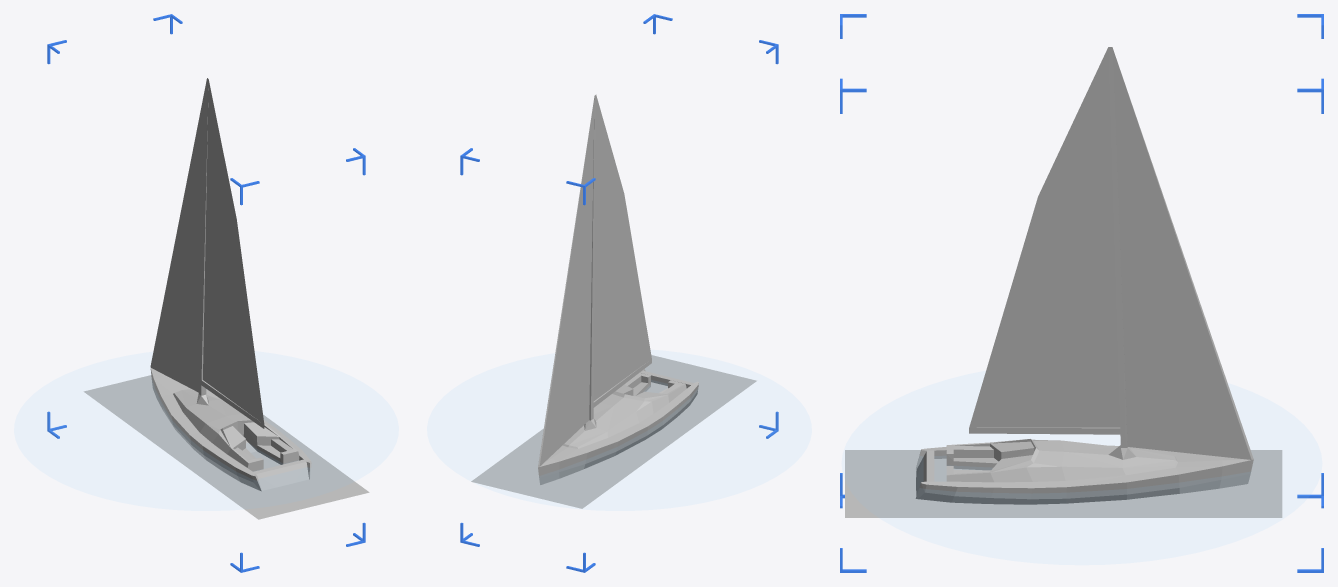
The model's file is SailboatL.glb.
3 views of the same model, side by side, from view 1: azimuth 30°, elevation 25°; view 2: azimuth 150°, elevation 25°; view 3: azimuth 270°, elevation 25° (orthographic). The views are drawn at different scales.
Visible parts, largest first — view 1: PaperVesselsMesh038_1, PaperVesselsMesh038, SurfaceGraphic_whiteGlow004, BoundingBox; view 2: PaperVesselsMesh038_1, SurfaceGraphic_whiteGlow004, PaperVesselsMesh038, BoundingBox; view 3: PaperVesselsMesh038_1, PaperVesselsMesh038, SurfaceGraphic_whiteGlow004, BoundingBox.
Boxes of the visible parts, <box> form: PaperVesselsMesh038_1: <box>150,79,264,424</box>; PaperVesselsMesh038: <box>150,78,311,491</box>; SurfaceGraphic_whiteGlow004: <box>83,375,369,519</box>; BoundingBox: <box>47,14,365,572</box>; PaperVesselsMesh038_1: <box>538,96,651,467</box>; SurfaceGraphic_whiteGlow004: <box>471,355,756,508</box>; PaperVesselsMesh038: <box>538,94,698,484</box>; BoundingBox: <box>460,14,778,572</box>; PaperVesselsMesh038_1: <box>969,47,1253,459</box>; PaperVesselsMesh038: <box>915,47,1253,504</box>; SurfaceGraphic_whiteGlow004: <box>845,450,1282,517</box>; BoundingBox: <box>840,14,1323,572</box>.
Size of the model in its own units: 12.17 by 13.84 by 12.24.
